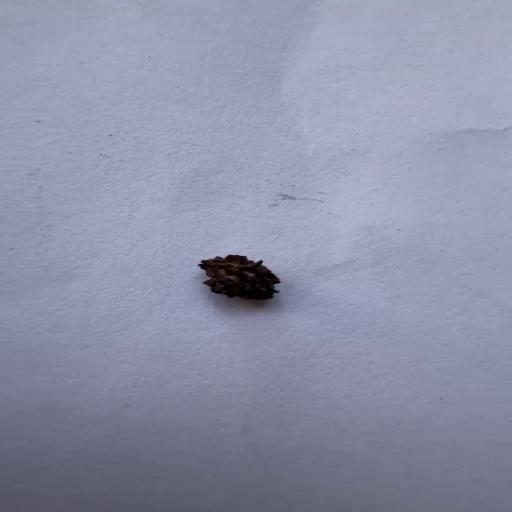papaya_seed: (189, 247, 293, 305)
